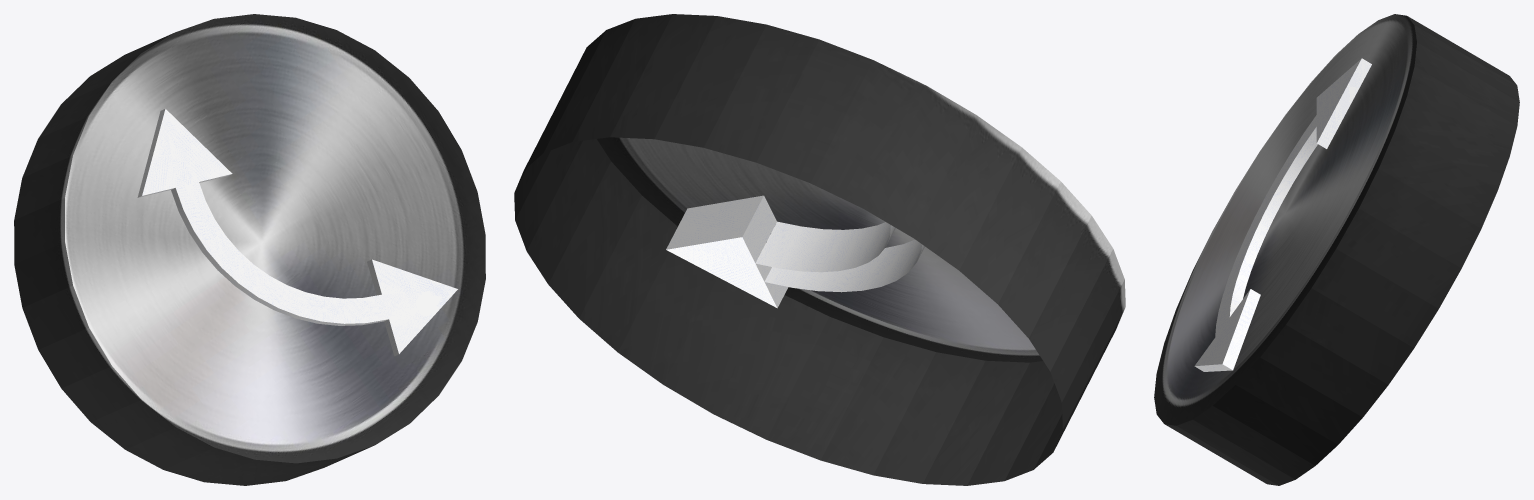
File: Botao_Girar_Direita.gltf
The picture shows the model from 3 angles, left to right: view 1: azimuth 30°, elevation 25°; view 2: azimuth 150°, elevation 25°; view 3: azimuth 270°, elevation 25°; orthographic projection. The views are drawn at different scales.
Visible parts, largest first — view 1: Circle, instance_1; view 2: Circle, instance_1; view 3: Circle, instance_1.
Part boxes in pixels (x1,y1,x2,y2): Circle: (14, 14, 485, 485); instance_1: (137, 108, 457, 356); Circle: (514, 14, 1125, 485); instance_1: (666, 195, 924, 308); Circle: (1154, 14, 1519, 485); instance_1: (1194, 58, 1371, 371).
Bounding box in the file's own units: 0.2666 × 0.2537 × 0.2013.
3 materials, 1 textured.
